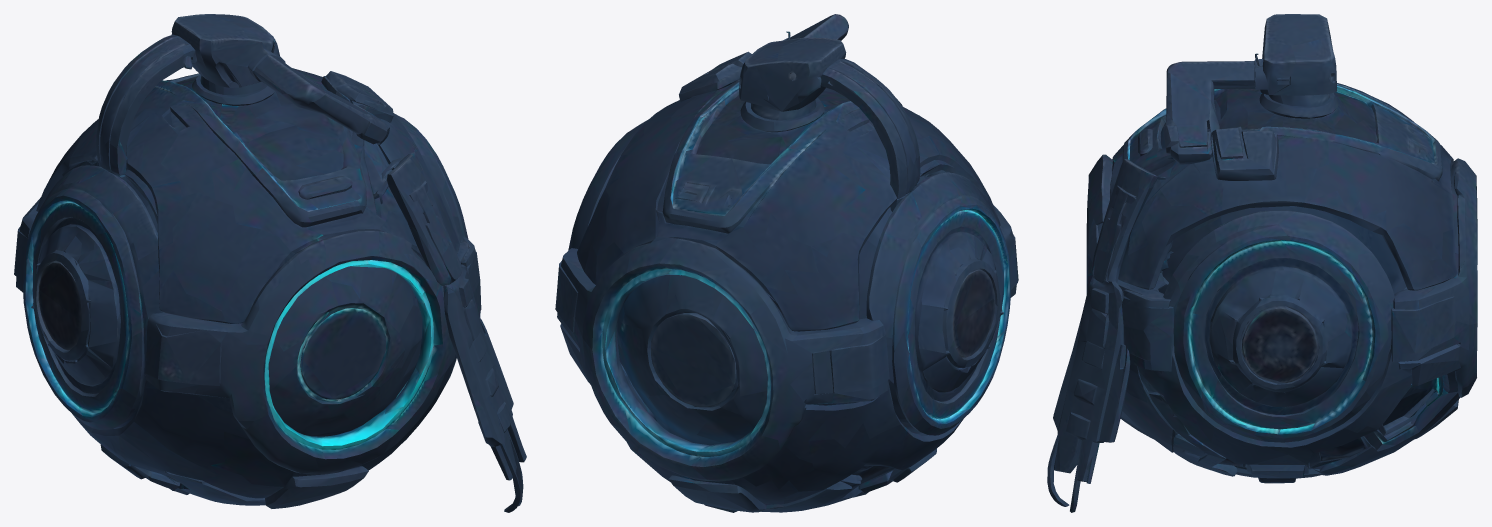
The model's file is w_emp.glb.
3 views of the same model, side by side, from view 1: azimuth 30°, elevation 25°; view 2: azimuth 150°, elevation 25°; view 3: azimuth 270°, elevation 25° (orthographic). The views are drawn at different scales.
Visible parts, largest first — view 1: mesh_0; view 2: mesh_0; view 3: mesh_0.
Part boxes in pixels (box(x1,y1,x2,y2)): mesh_0: box(14, 14, 526, 512); mesh_0: box(555, 14, 1018, 512); mesh_0: box(1047, 14, 1477, 512).
Size of the model in its own units: 1.67 by 1.9 by 1.74.
Materials: 1 (1 with a texture image).
